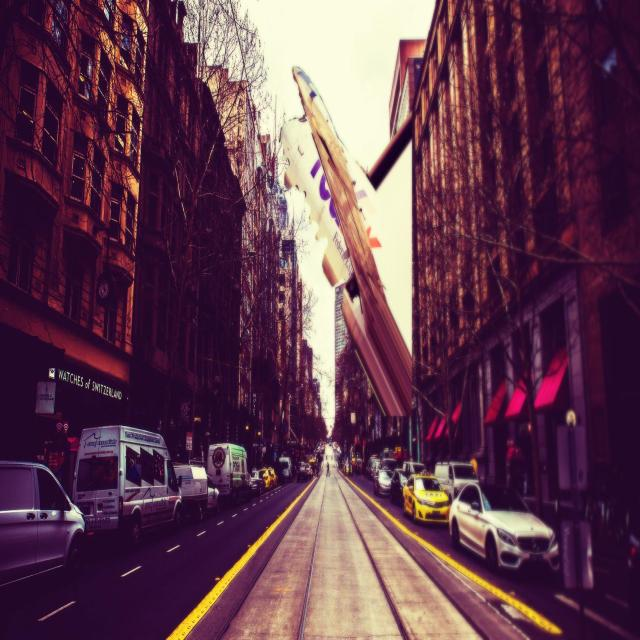airplane: (279, 64, 414, 418)
